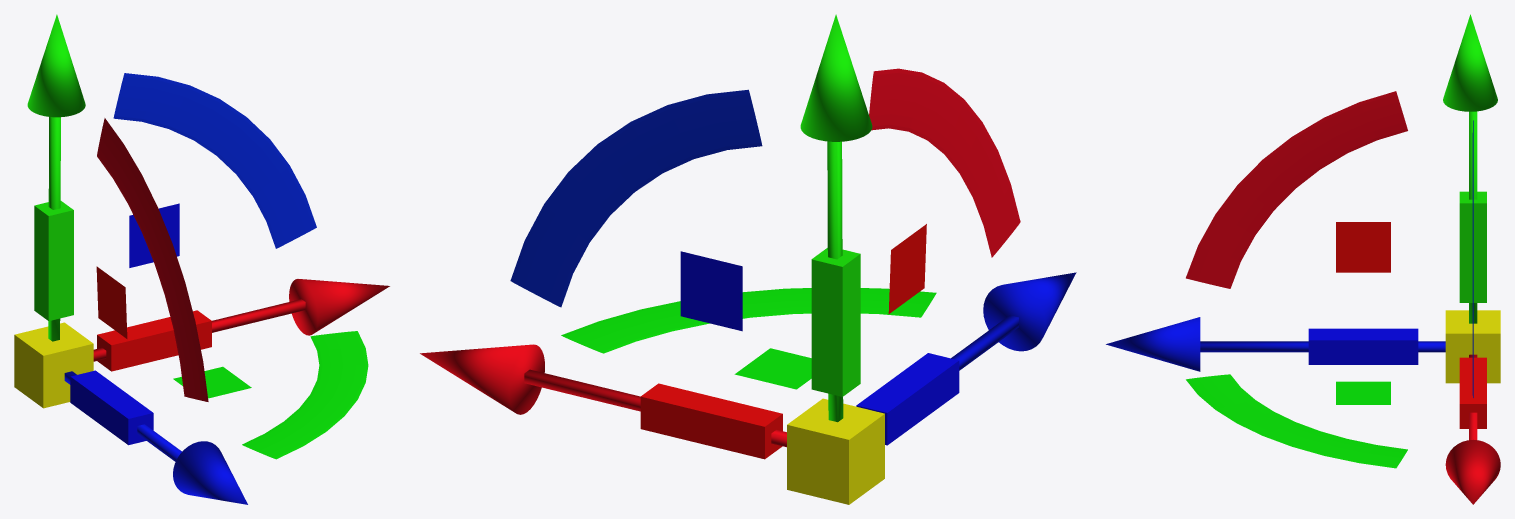
The model's file is gizmo.fbx.
3 views of the same model, side by side, from view 1: azimuth 30°, elevation 25°; view 2: azimuth 150°, elevation 25°; view 3: azimuth 270°, elevation 25° (orthographic). The views are drawn at different scales.
Parts seen in each view (by area): view 1: Torus.002, Torus.004, Torus.003, Cube, arrow.002, Cube.003, arrow.001, arrow, Cube.002, Cube.001, Plane, Plane.002 (+1 smaller); view 2: Torus.002, Torus.004, Cube, arrow.002, Cube.003, arrow.001, Cube.001, Torus.003, arrow, Cube.002, Plane.002, Plane (+1 smaller); view 3: Torus.004, Torus.003, arrow, Cube.002, arrow.002, Cube, Cube.003, Plane, arrow.001, Cube.001, Plane.001, Torus.002.
Boxes of the visible parts, <box> form: Torus.002: <box>113,73,316,248</box>; Torus.004: <box>97,118,208,401</box>; Torus.003: <box>242,331,368,459</box>; Cube: <box>14,322,93,408</box>; arrow.002: <box>27,14,85,341</box>; Cube.003: <box>34,201,73,320</box>; arrow.001: <box>93,279,389,361</box>; arrow: <box>64,371,247,504</box>; Cube.002: <box>70,370,153,445</box>; Cube.001: <box>97,310,211,371</box>; Plane: <box>96,266,127,338</box>; Plane.002: <box>129,203,179,267</box>; Torus.002: <box>510,89,762,307</box>; Torus.004: <box>869,68,1020,257</box>; Cube: <box>787,398,884,504</box>; arrow.002: <box>800,14,872,422</box>; Cube.003: <box>811,248,860,396</box>; arrow.001: <box>420,344,786,447</box>; Cube.001: <box>640,383,782,459</box>; Torus.003: <box>561,288,936,353</box>; arrow: <box>951,272,1076,370</box>; Cube.002: <box>856,353,959,445</box>; Plane.002: <box>680,251,742,331</box>; Plane: <box>888,224,926,313</box>; Torus.004: <box>1186,91,1407,288</box>; Torus.003: <box>1186,374,1407,468</box>; arrow: <box>1106,317,1445,371</box>; Cube.002: <box>1308,328,1418,364</box>; arrow.002: <box>1443,14,1497,323</box>; Cube: <box>1445,310,1500,383</box>; Cube.003: <box>1459,191,1486,302</box>; Plane: <box>1336,222,1390,272</box>; arrow.001: <box>1445,354,1500,504</box>; Cube.001: <box>1459,357,1486,428</box>; Plane.001: <box>1336,381,1390,404</box>; Torus.002: <box>1472,120,1473,397</box>.
Size of the model in its own units: 720 by 725 by 720.
